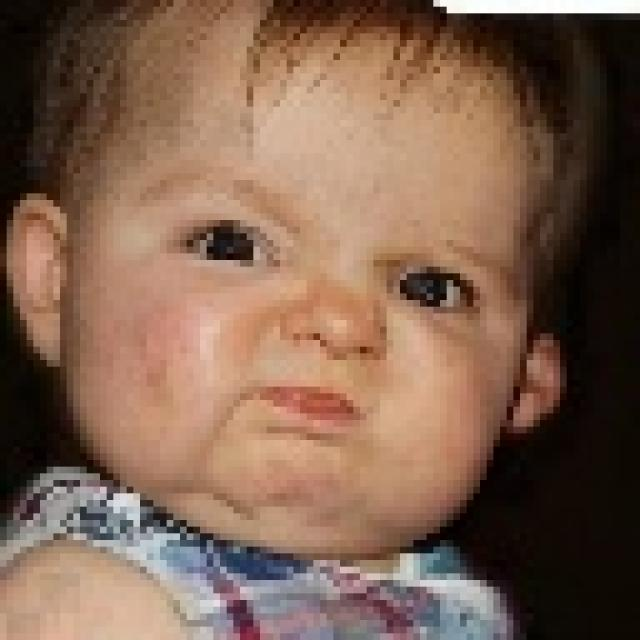angry: (36, 5, 543, 552)
